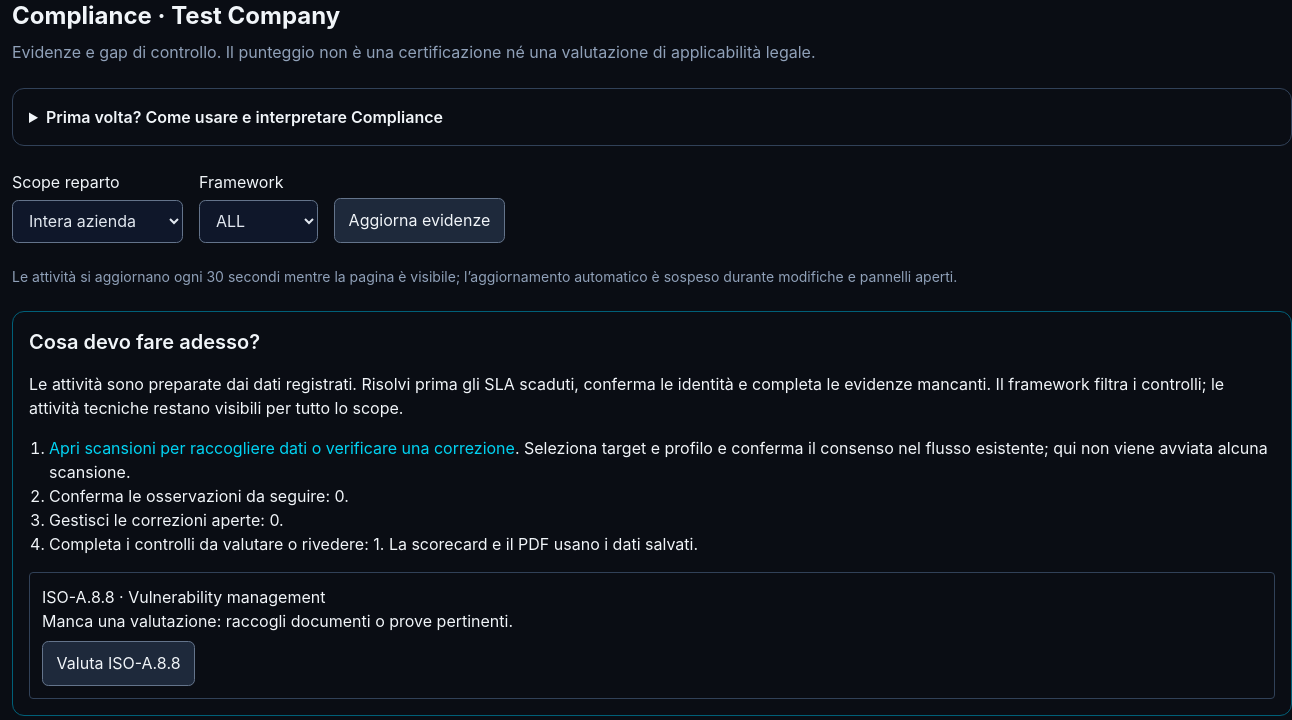
Test: Compliance evidence and scope › opens the correct evidence form from the generated activity
This screenshot has width=1292, height=720.
Click the button "Valuta ISO-A.8.8": {"x": 119, "y": 663} top-left (42, 641), bottom-right (195, 686)
(page scrolled)
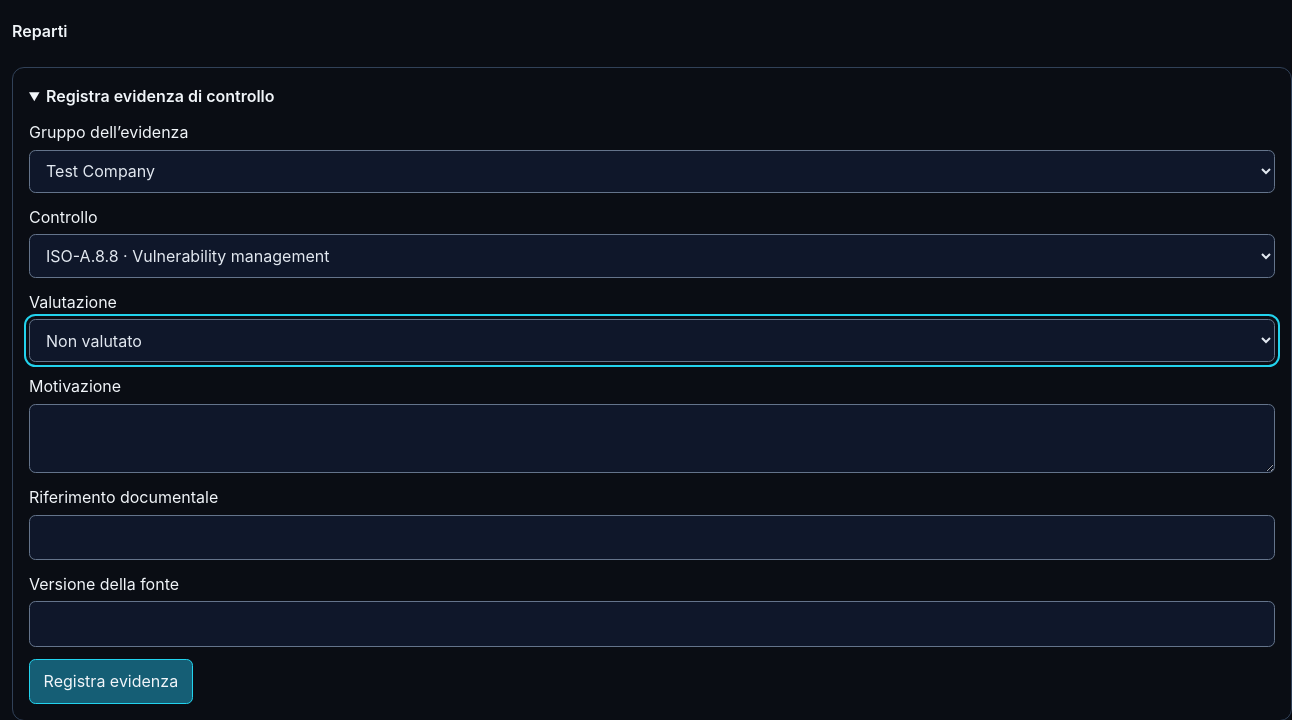
expect the dropdown labelled "Controllo" shows "ISO-A.8.8 · Vulnerability management": met, box top-left (29, 234), bottom-right (1275, 278)
